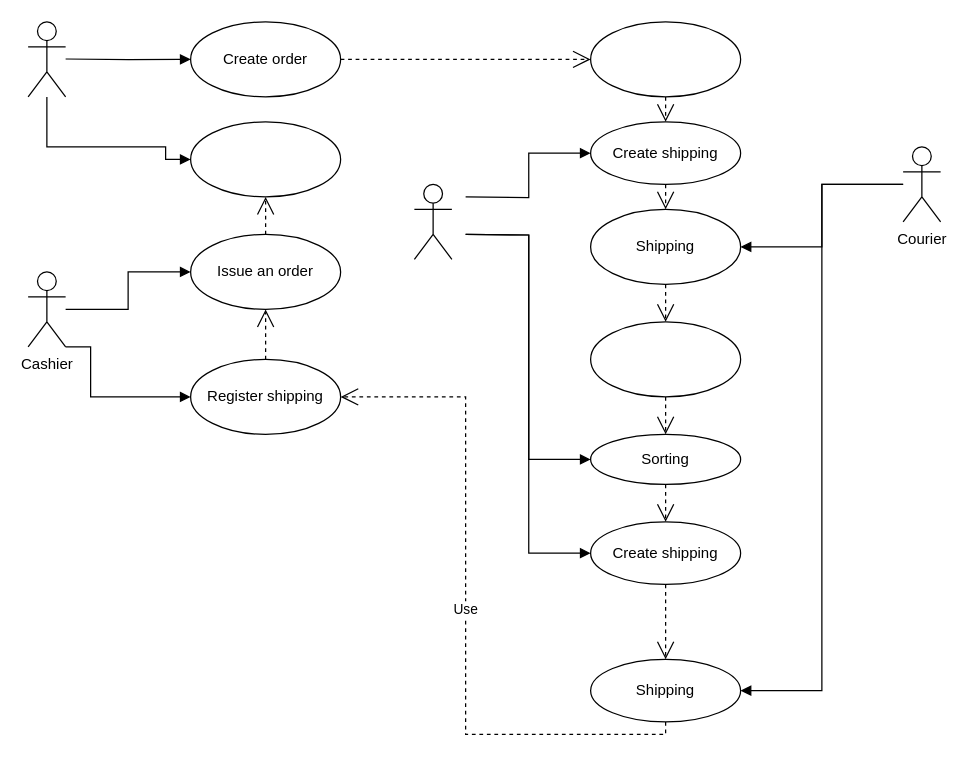
The diagram is 968 pixels wide and 774 high, and some of its shapes have lost their labels. The shapes that lost their labels are listed below. From the top down, each one's centre as x and y in pixels, then its label:
At point 46,59: "Client".
At point 665,59: "Storage".
At point 265,159: "Receiving an order".
At point 432,221: "Storage worker".
At point 665,359: "Sorting center".
